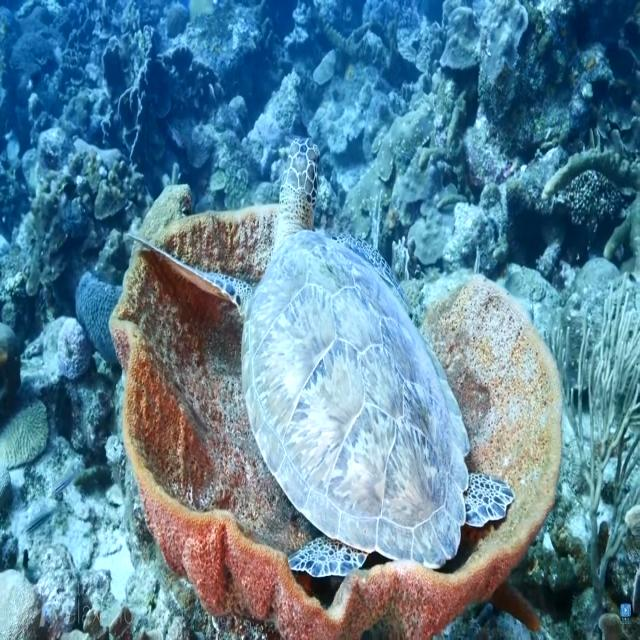Sea turtle: (128, 135, 518, 582)
